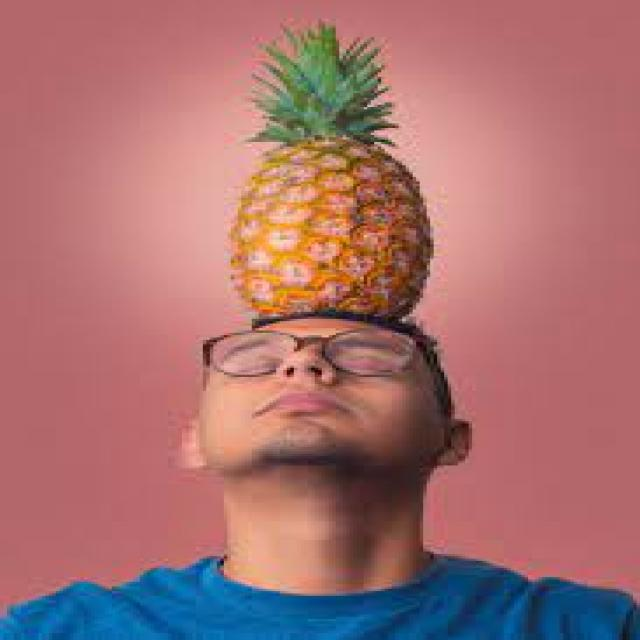pineapple: (217, 7, 437, 319)
